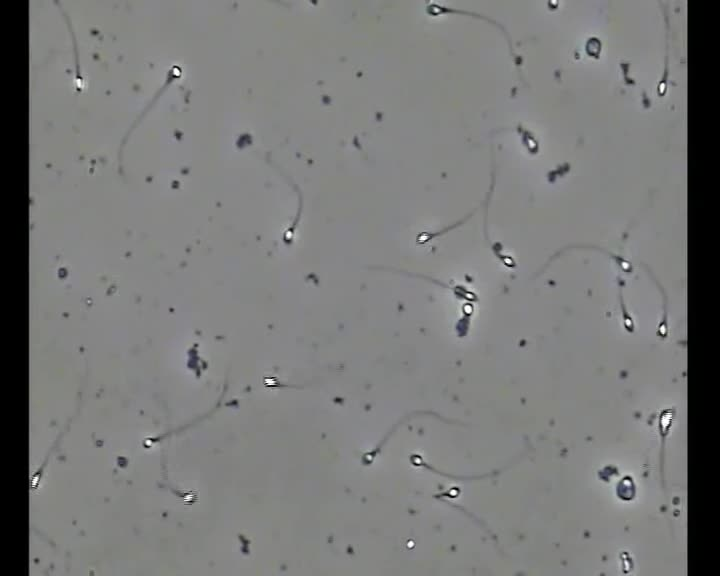spermhead: (516, 125, 538, 154), (616, 476, 636, 501), (657, 409, 673, 436), (598, 464, 619, 483), (584, 36, 601, 58), (426, 0, 447, 16), (620, 551, 633, 575), (264, 381, 286, 395), (455, 315, 469, 337), (166, 64, 183, 82), (235, 131, 253, 148), (615, 256, 632, 273), (73, 73, 86, 93), (362, 449, 377, 465), (30, 466, 41, 487), (656, 74, 666, 97), (283, 226, 295, 245), (177, 493, 190, 510), (443, 485, 460, 498), (623, 312, 634, 332), (418, 230, 436, 242), (409, 452, 424, 466), (657, 319, 669, 336), (502, 254, 515, 268), (453, 285, 466, 299), (143, 436, 158, 448), (491, 241, 503, 256), (461, 302, 473, 316), (464, 290, 476, 301), (547, 0, 558, 10), (616, 277, 625, 288), (407, 538, 415, 550)
